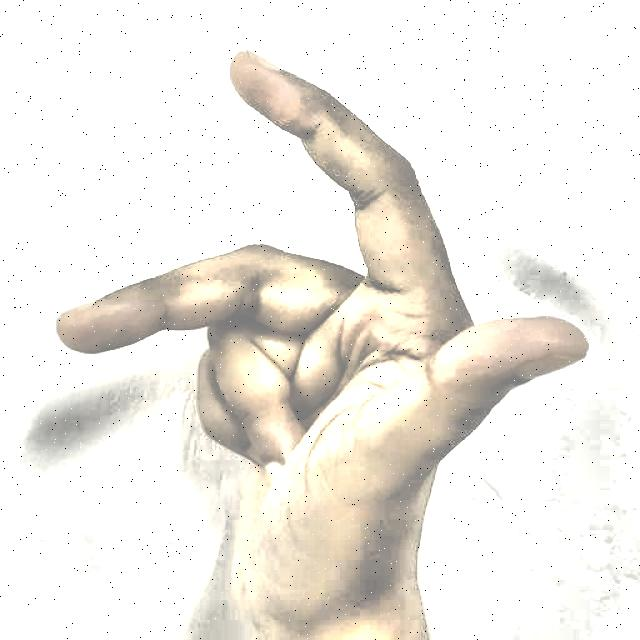Da: (44, 33, 600, 606)
